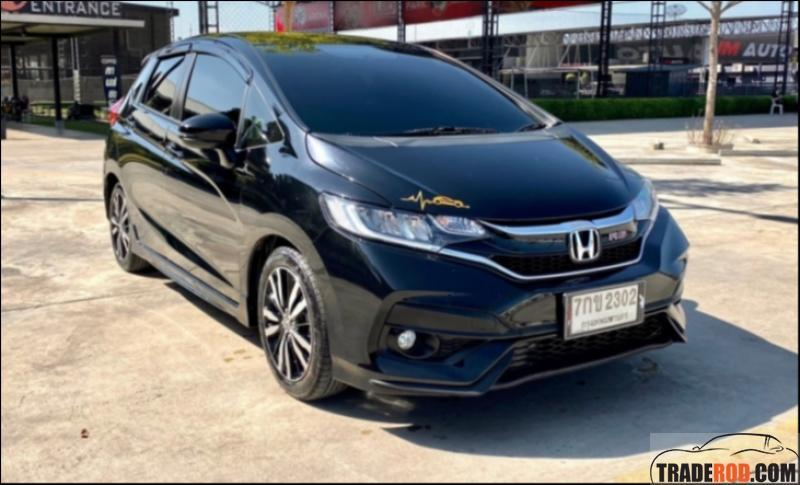Hatchback: (99, 22, 704, 426)
